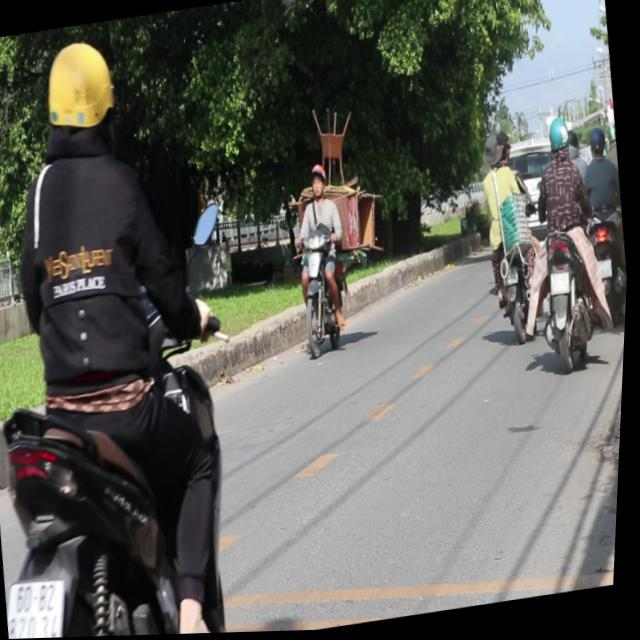helmet: (36, 37, 125, 161), (545, 118, 571, 161), (586, 126, 608, 160), (308, 164, 329, 199)
licenseplate: (0, 19, 273, 640), (512, 113, 618, 377), (467, 123, 552, 348), (281, 160, 361, 360), (569, 124, 635, 330)
motorcyclist: (481, 136, 505, 176), (494, 130, 516, 170)
nohelmet: (8, 575, 76, 639), (552, 274, 572, 298), (599, 261, 615, 282), (504, 269, 521, 288)
